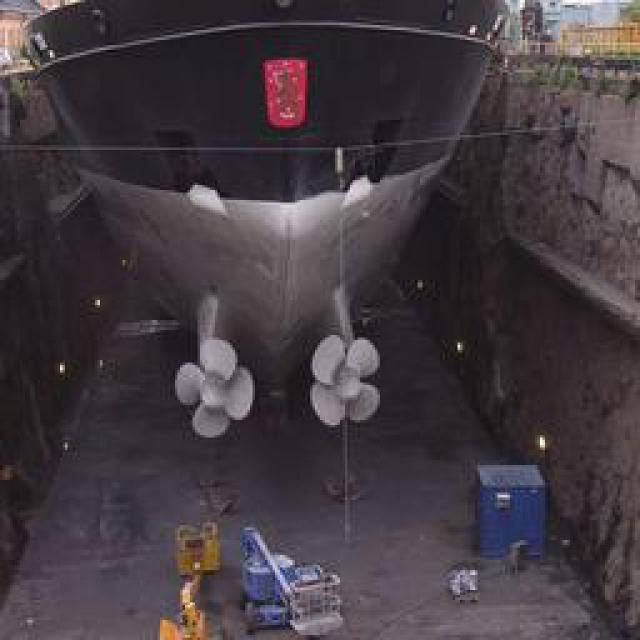Ship: (17, 1, 522, 447)
